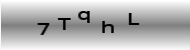7: (36, 21, 51, 36)
L: (127, 11, 141, 27)
T: (55, 16, 73, 32)
h: (100, 19, 116, 34)
q: (76, 9, 91, 24)
